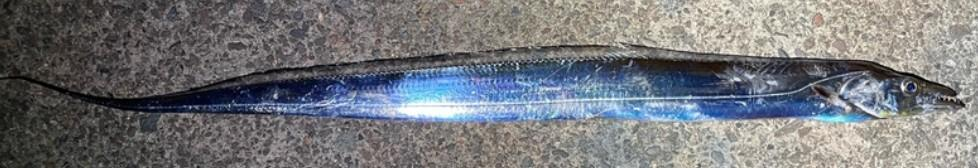fish: (4, 46, 965, 121)
